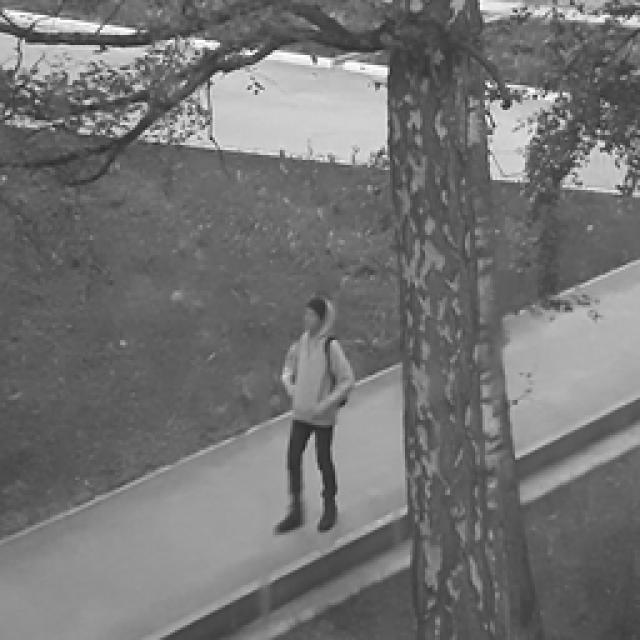Invader: (270, 292, 355, 532)
